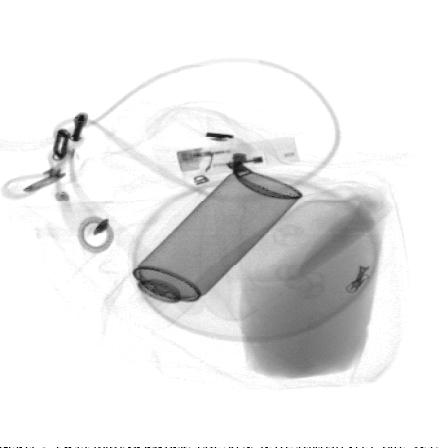Lighter: (177, 136, 302, 180)
Sprayer: (103, 169, 303, 331)
